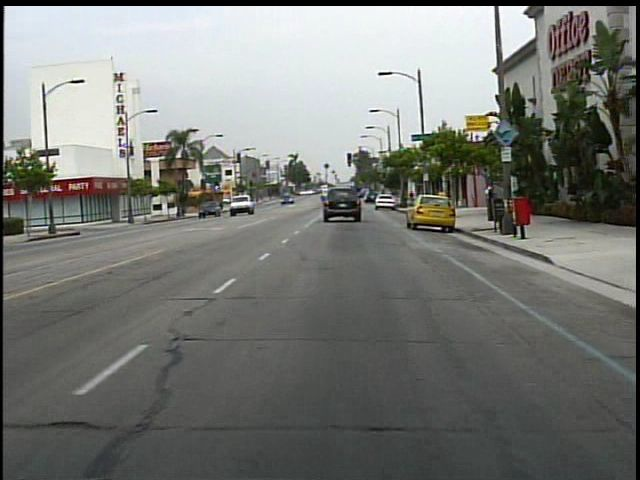person: (478, 180, 500, 219)
